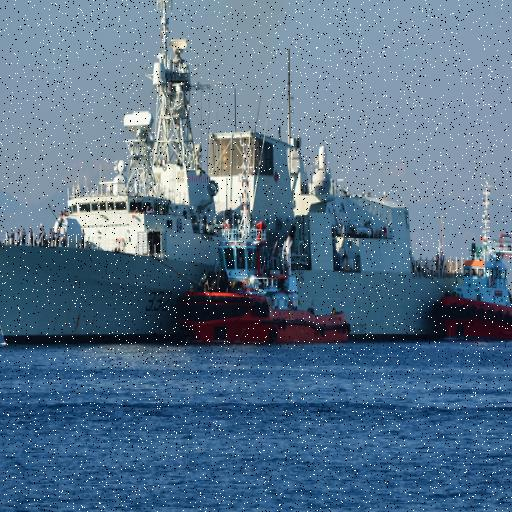Fragata: (1, 1, 512, 349)
